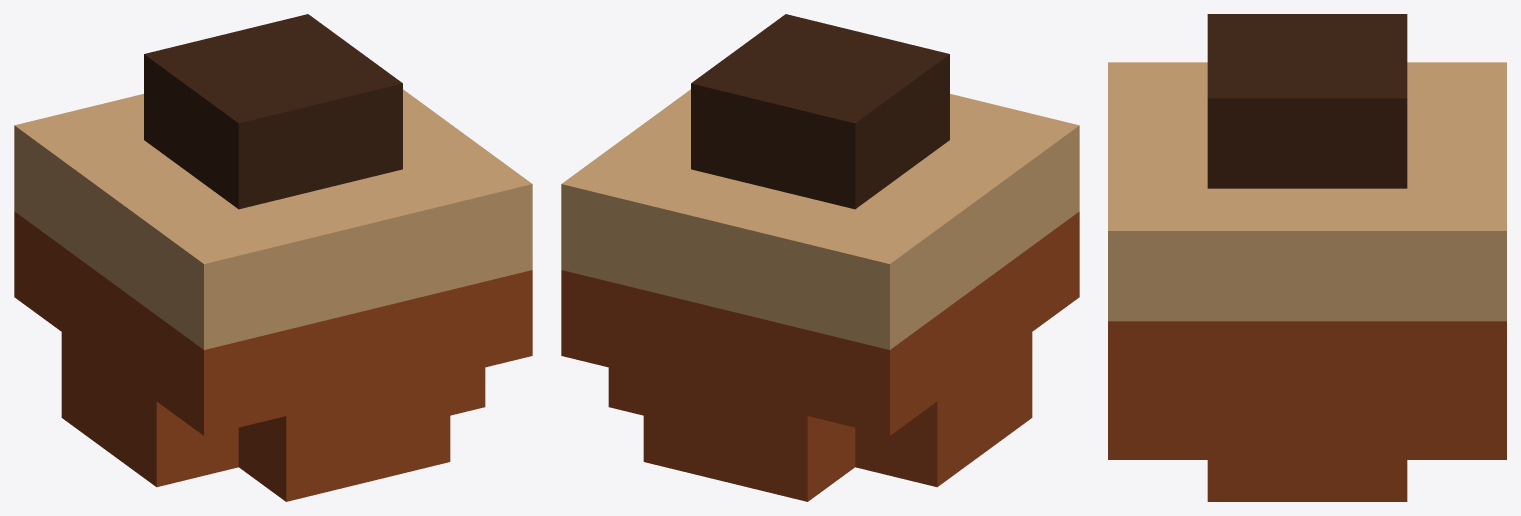
Rendered from Javier_Santiago_Bustos_Laverde_fase_1.obj.
3 renders of one model, left to right at view 1: azimuth 30°, elevation 25°; view 2: azimuth 150°, elevation 25°; view 3: azimuth 270°, elevation 25°, orthographic. The views are drawn at different scales.
Parts seen in each view (by area): view 1: Javier_Santiago_Bustos_Laverde_fase_1; view 2: Javier_Santiago_Bustos_Laverde_fase_1; view 3: Javier_Santiago_Bustos_Laverde_fase_1.
Part boxes in pixels (box(x1,y1,x2,y2)): Javier_Santiago_Bustos_Laverde_fase_1: box(14, 14, 532, 501); Javier_Santiago_Bustos_Laverde_fase_1: box(561, 14, 1079, 501); Javier_Santiago_Bustos_Laverde_fase_1: box(1108, 14, 1506, 501).
Size of the model in its own units: 4 by 4 by 4.
Materials: 1 (1 with a texture image).
